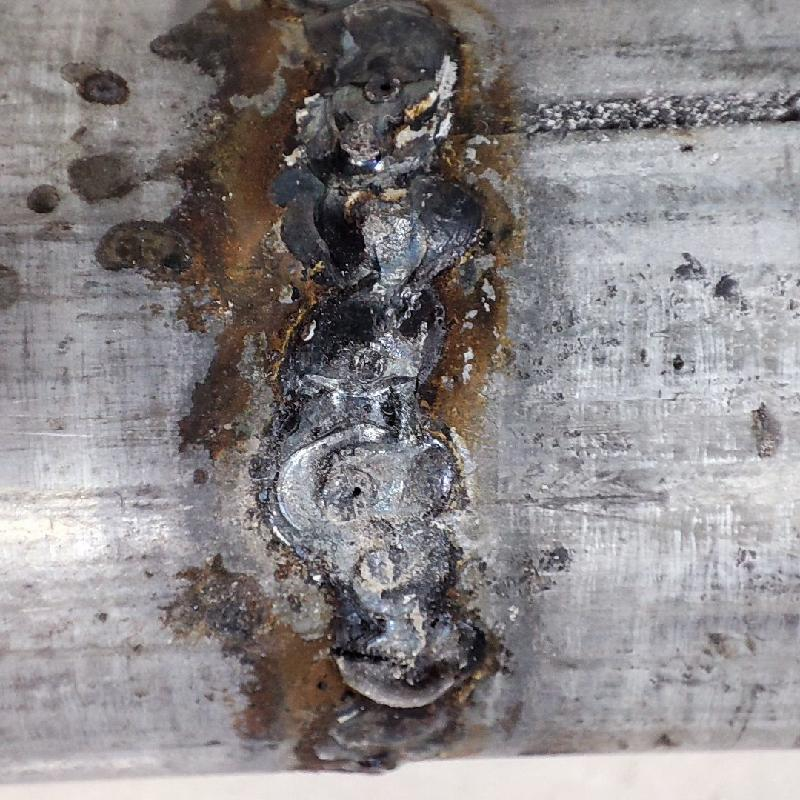Not_fully_soldered: (262, 376, 490, 761)
Surface_pores: (313, 463, 388, 520), (364, 70, 407, 105)
